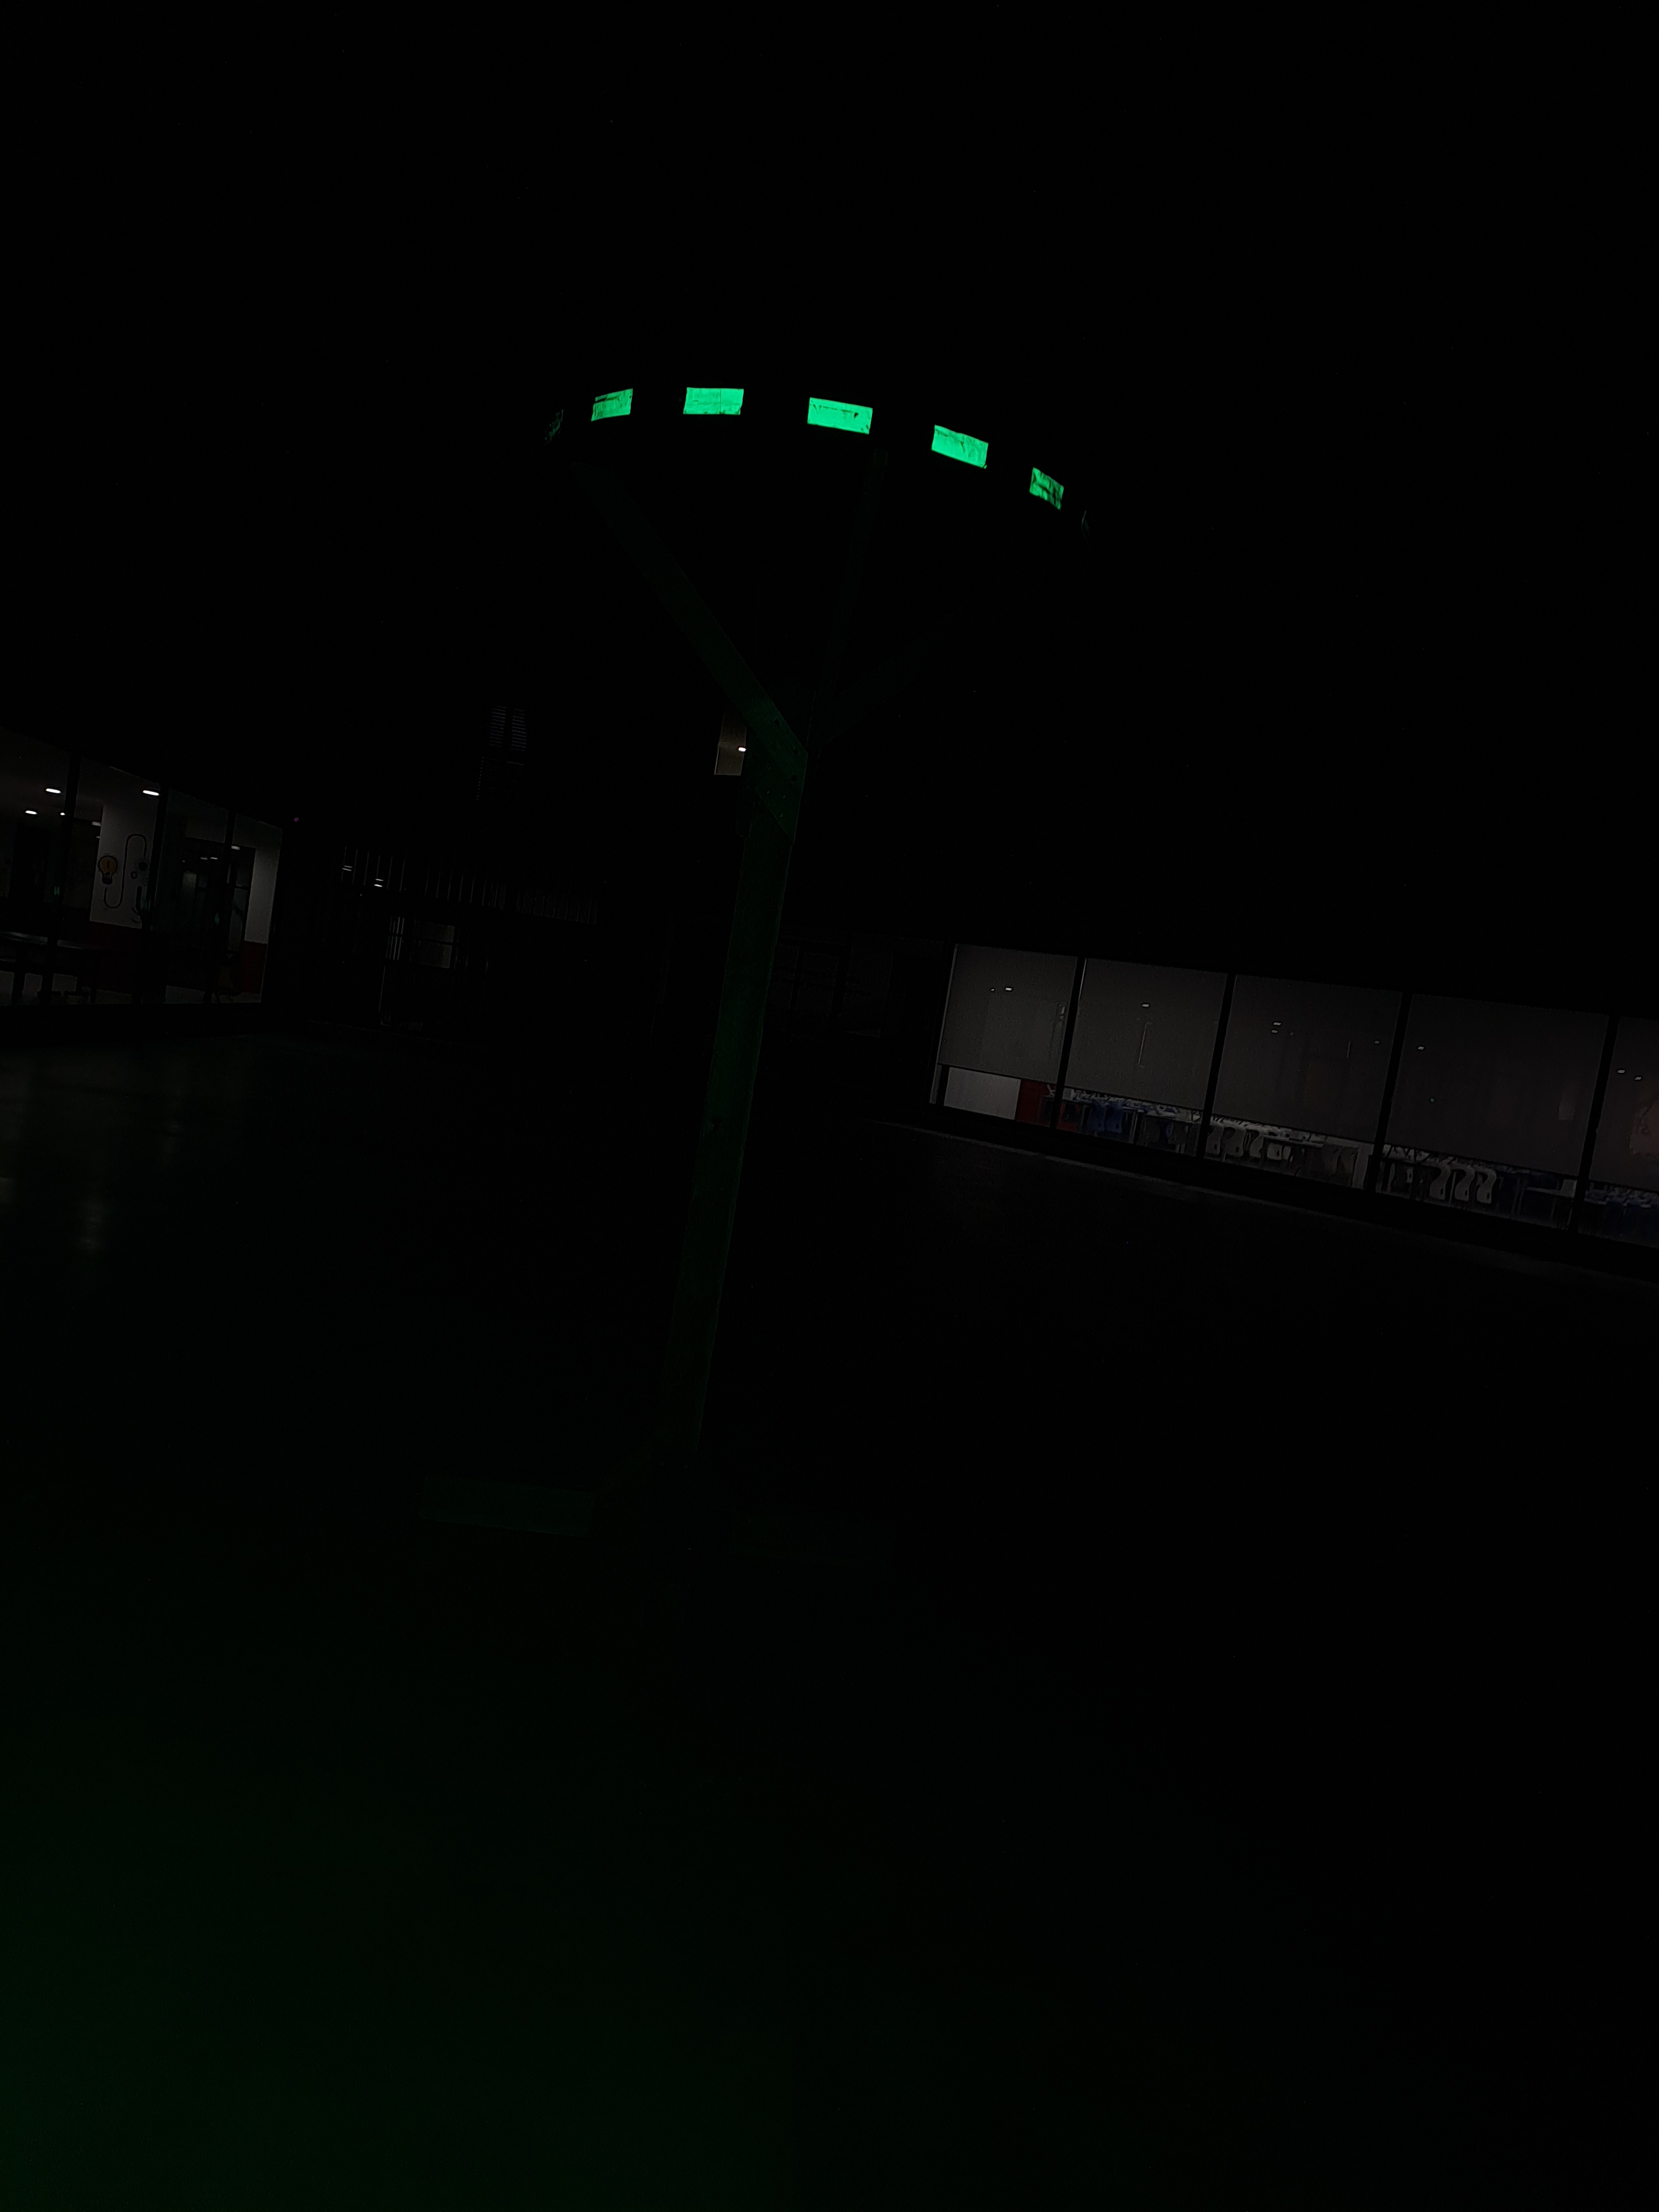hoop: (587, 378, 1072, 516)
